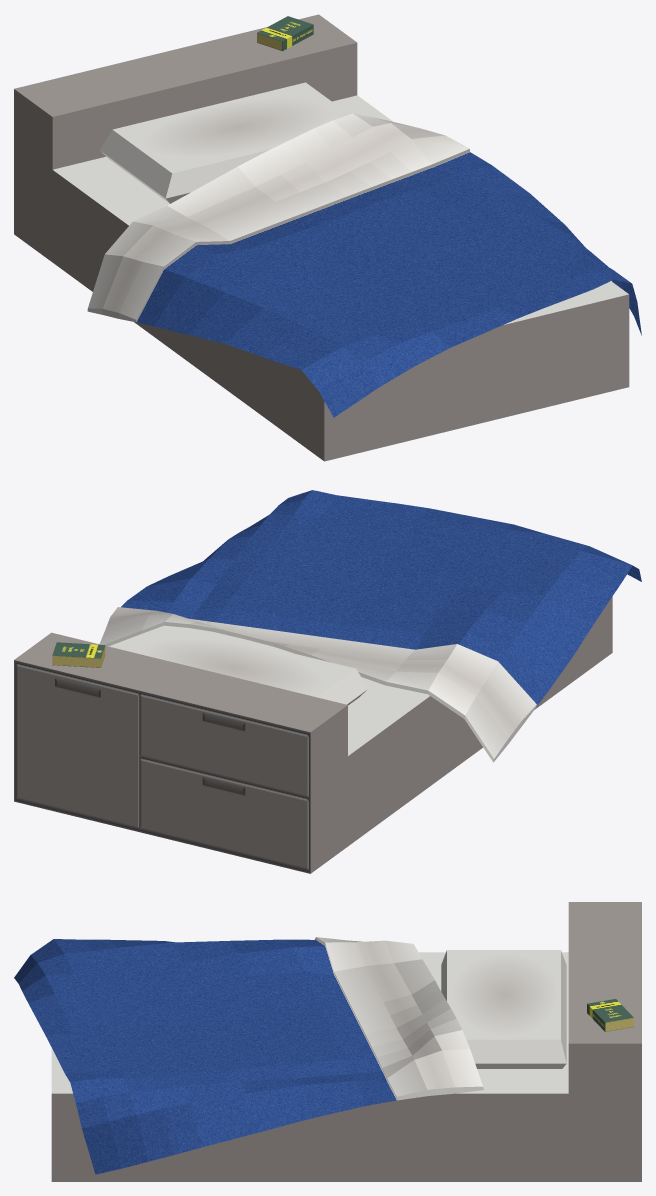
File: Bed.fbx
The picture shows the model from 3 angles, top to bottom: view 1: azimuth 30°, elevation 25°; view 2: azimuth 150°, elevation 25°; view 3: azimuth 270°, elevation 25°; orthographic projection. The views are drawn at different scales.
Parts seen in each view (by area): view 1: Cover, Frame, Pillow, Book; view 2: Frame, Cover, Pillow, Book; view 3: Cover, Frame, Pillow, Book.
Part boxes in pixels (x1,y1,x2,y2): Cover: (87,113,641,417); Frame: (14,14,629,461); Pillow: (100,82,349,203); Book: (257,16,313,51); Frame: (14,490,612,873); Cover: (99,490,641,762); Pillow: (129,625,368,705); Book: (52,642,105,667); Cover: (14,937,483,1174); Frame: (51,902,641,1181); Pillow: (441,950,566,1068); Book: (587,999,633,1031).
Size of the model in its own units: 127 by 46.28 by 178.
1 material, 1 textured.
